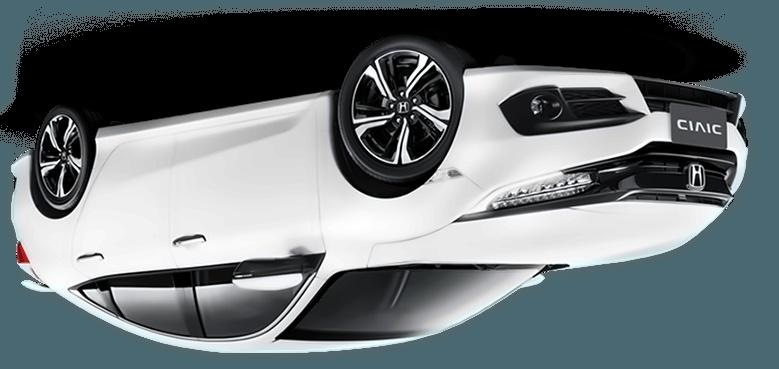Car hood: (357, 199, 731, 270)
Fender - -F-L-: (308, 89, 487, 276)
Fender - -R-L-: (12, 134, 110, 298)
Front bumper: (452, 64, 751, 185)
Headlight - -L-: (456, 167, 601, 225)
Passenger-s door - -F-L-: (167, 76, 321, 361)
Passenger-s door - -R-L-: (67, 85, 208, 365)
Side bumper - -L-: (86, 85, 339, 172)
Side mirror - -L-: (230, 253, 314, 296)
